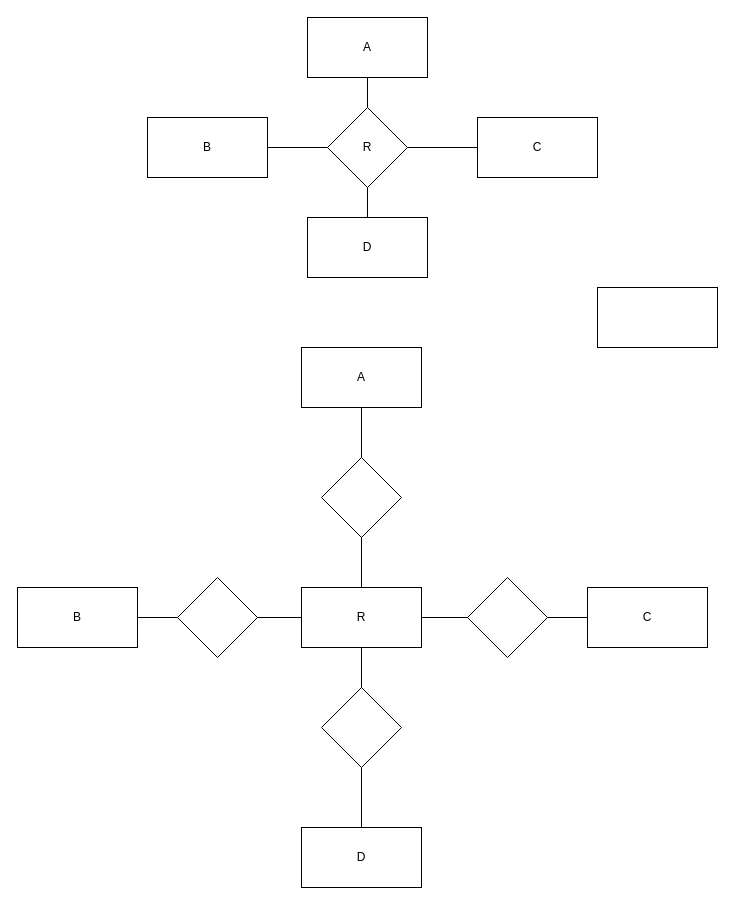
This 735x905 diagram has some shape labels left out. The box of each missing label's shape, as (x1, y1, x2, y2) in pixels:
R1: (320, 456, 402, 538)
R2: (176, 576, 258, 658)
R3: (466, 576, 548, 658)
R4: (320, 686, 402, 768)
TRANFORMACION DE UNION CUATERNRIA A UNA N-ARIA: (596, 286, 718, 348)
